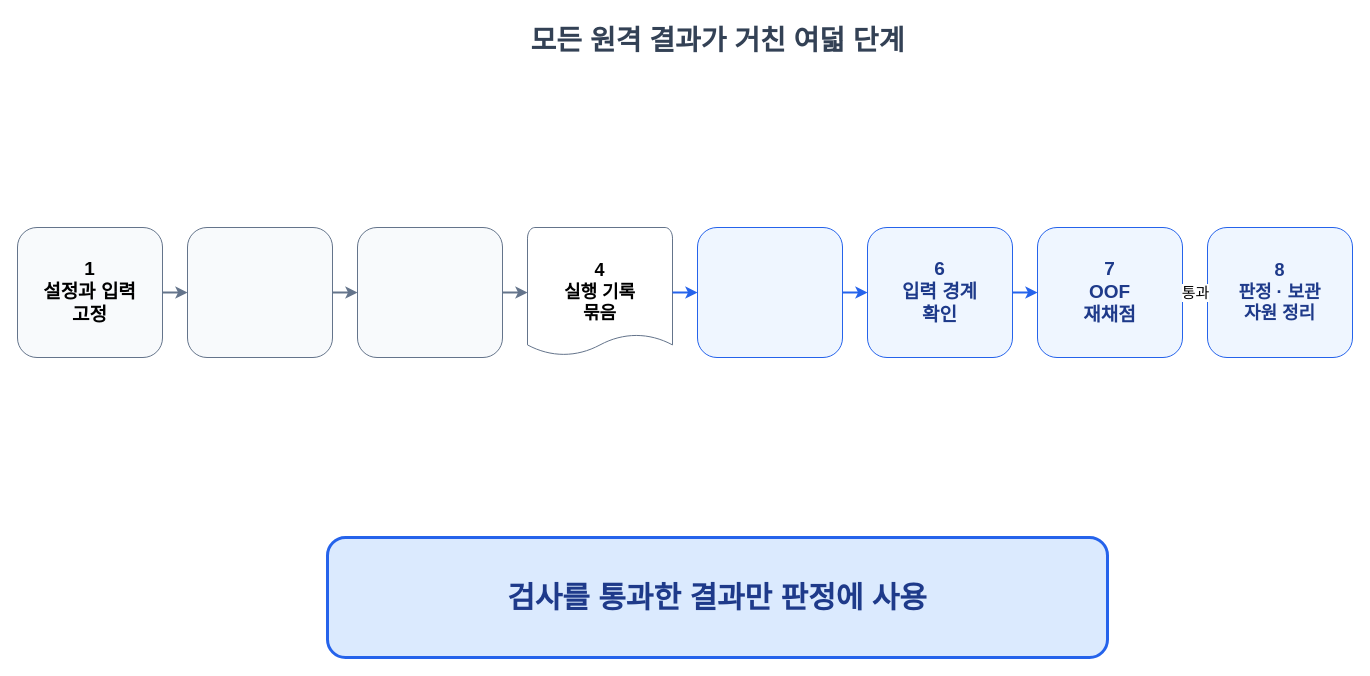
Some shapes in this 1370 by 676 pixel diagram are drawn without their labels. The centre of each missing label's shape, as x and y in pixels:
"2 실행 장소 배정" belongs at point 259,292.
"3 공통 명령 실행" belongs at point 429,292.
"5 SHA-256 대조" belongs at point 769,292.
